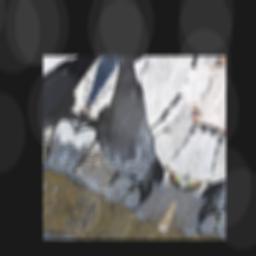Crow: (54, 56, 206, 210)
